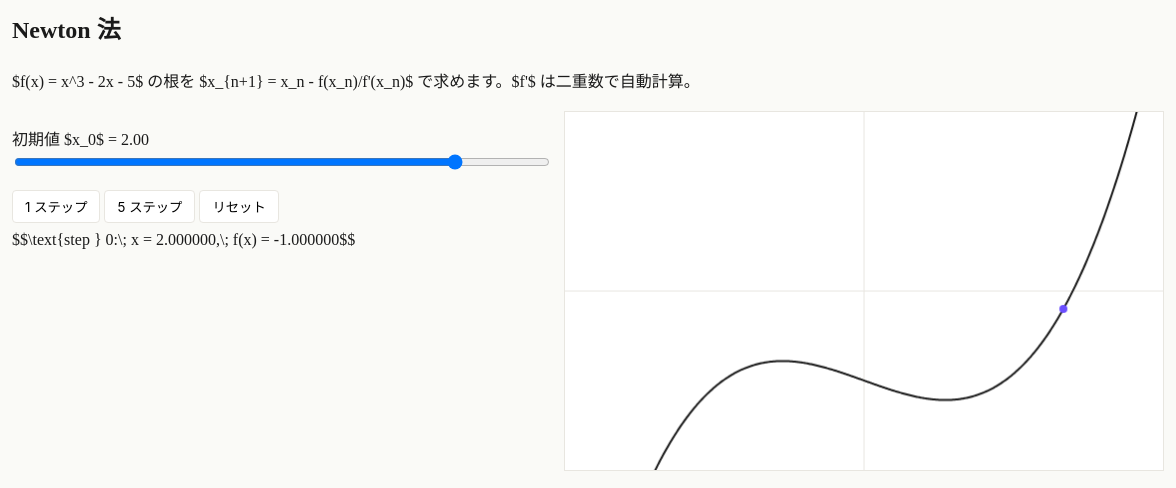
Test: Newton route › adds an iteration row when "1 ステップ" clicked
Click the button "1 ステップ" at (56, 206), box [12,190,100,223]
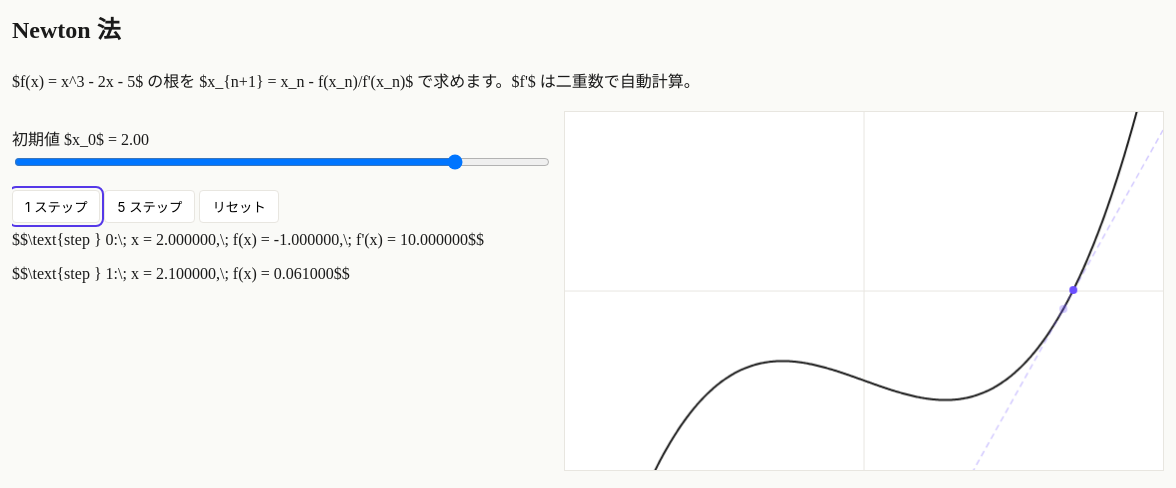
Expected: the number of elements with class "step-row" is 2, [12,231,484,248]; [12,265,350,282]
